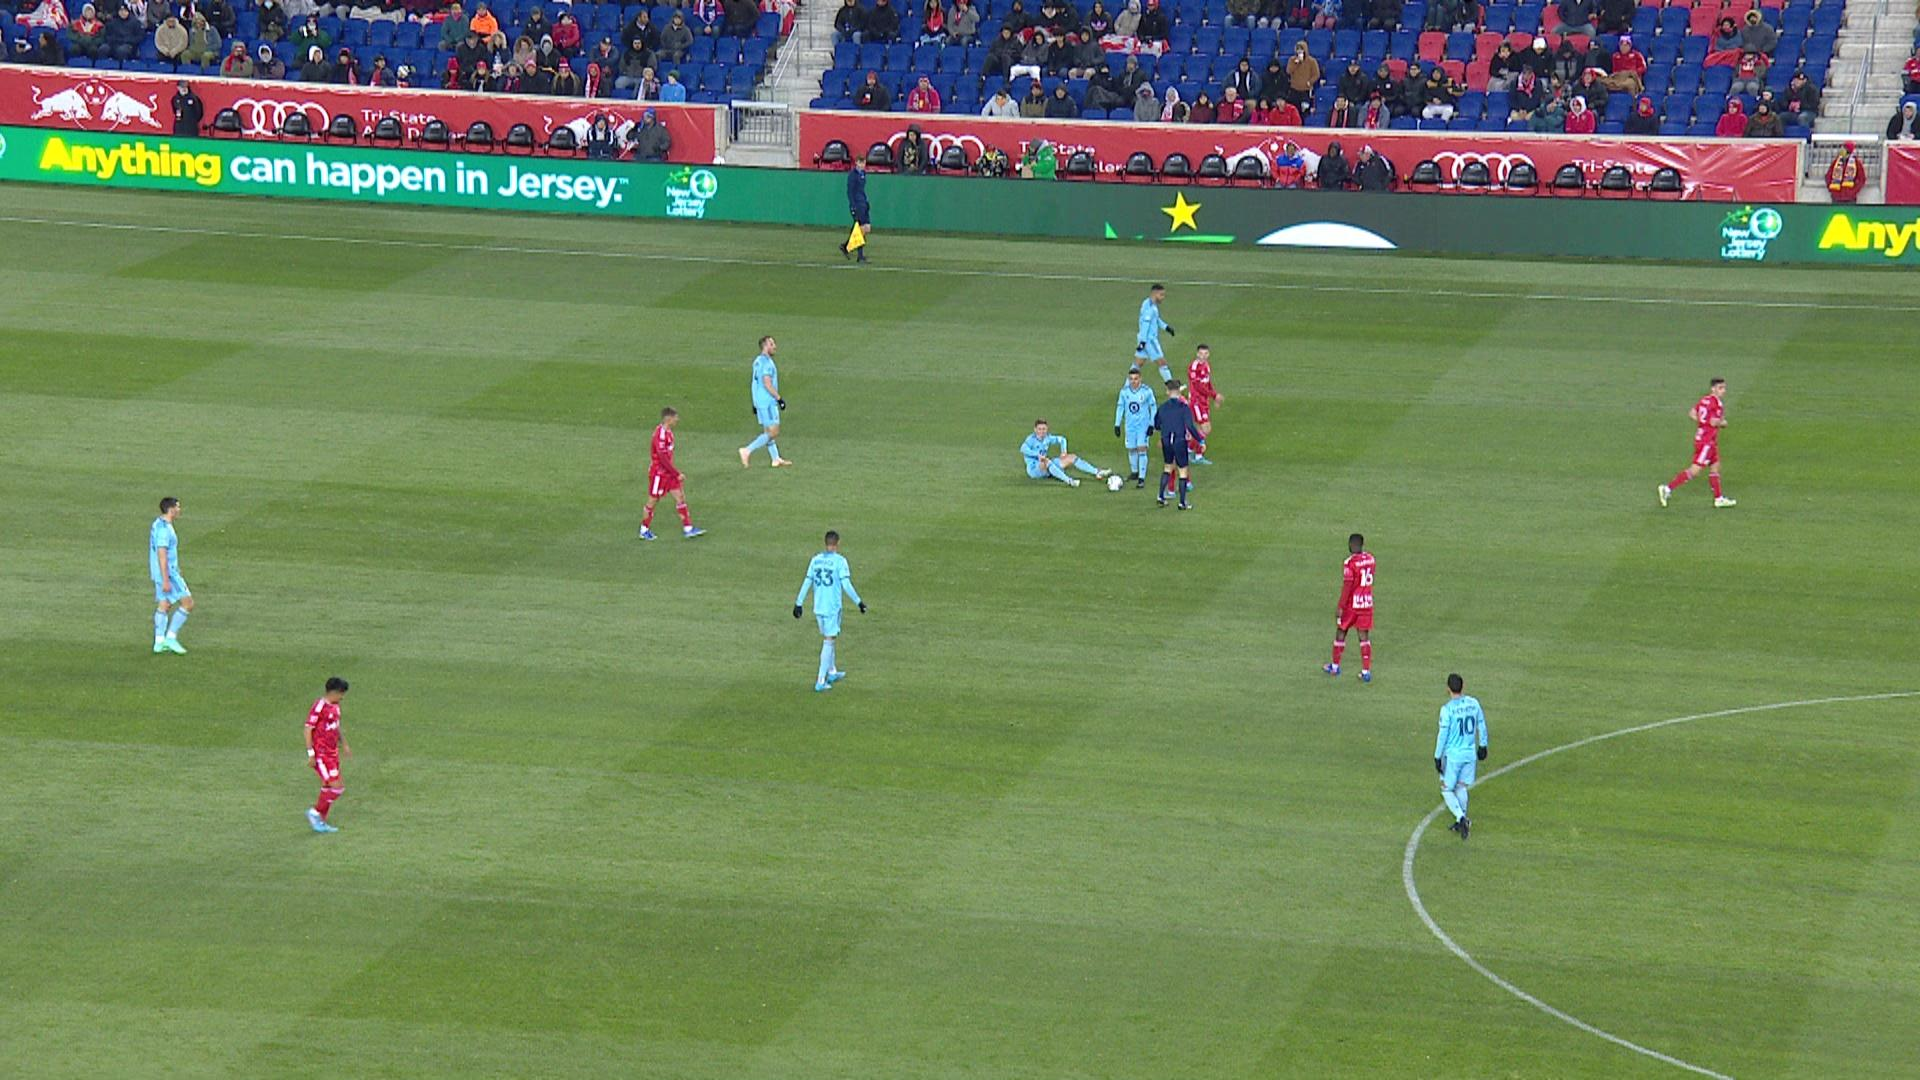football: (1108, 475, 1124, 492)
